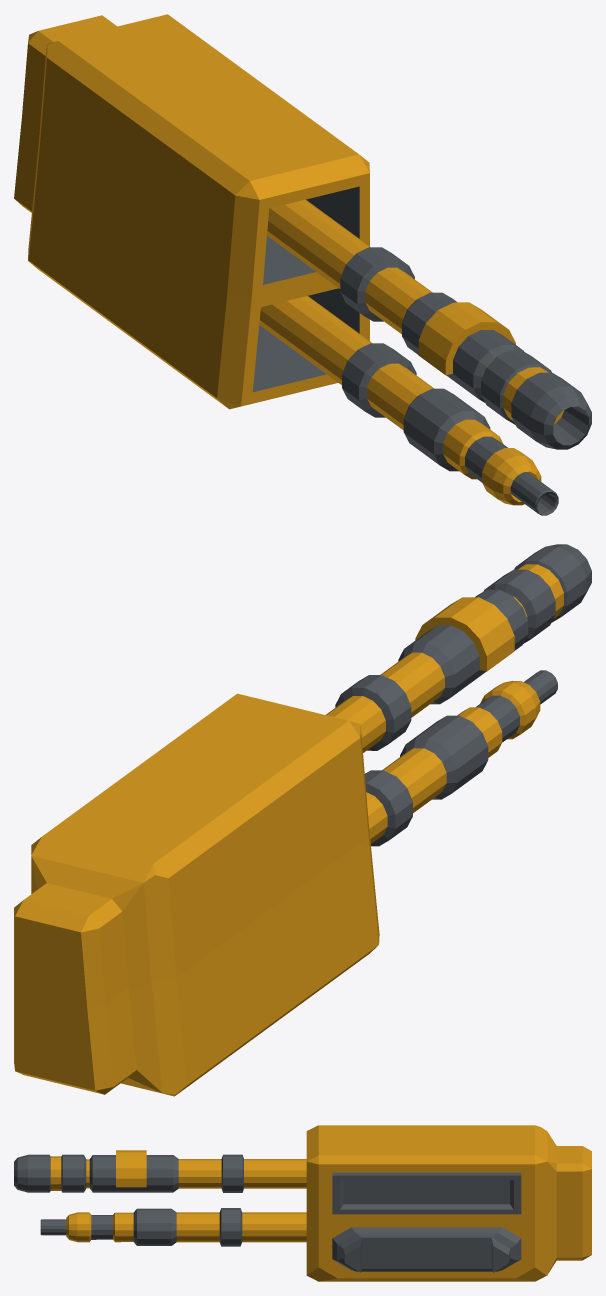
File: Fighter_05_Artillery_Left_Yellow.fbx
3 views of the same model, one above another, from view 1: azimuth 30°, elevation 25°; view 2: azimuth 150°, elevation 25°; view 3: azimuth 270°, elevation 25° (orthographic). The views are drawn at different scales.
Parts seen in each view (by area): view 1: Fighter_05_Artillery_Left_Yellow; view 2: Fighter_05_Artillery_Left_Yellow; view 3: Fighter_05_Artillery_Left_Yellow.
Part boxes in pixels (left/top/right/bottom): Fighter_05_Artillery_Left_Yellow: left=14, top=14, right=591, bottom=515; Fighter_05_Artillery_Left_Yellow: left=14, top=544, right=591, bottom=1096; Fighter_05_Artillery_Left_Yellow: left=14, top=1125, right=591, bottom=1281.
Size of the model in its own units: 155 by 175 by 726.
2 materials, 2 textured.
